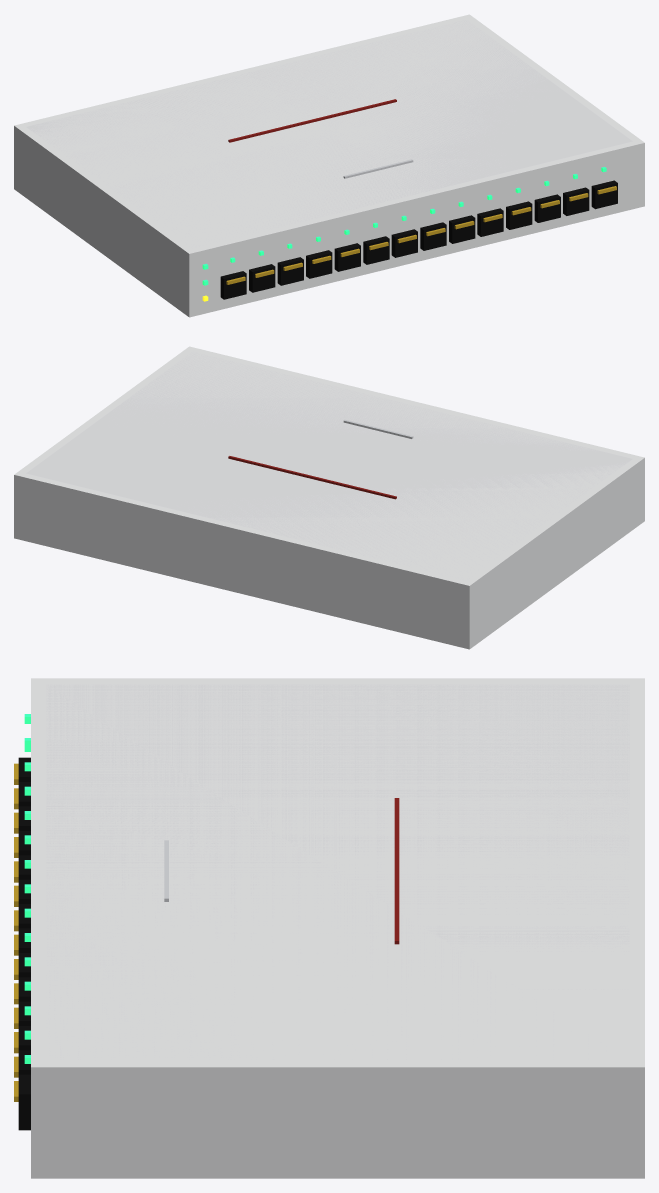
File: 17-fortinet-fortigate-60f.glb
3 renders of one model, top to bottom at view 1: azimuth 30°, elevation 25°; view 2: azimuth 150°, elevation 25°; view 3: azimuth 270°, elevation 25°, orthographic. The views are drawn at different scales.
Bounding box in the file's own units: 0.3 × 0.0412 × 0.2055.
